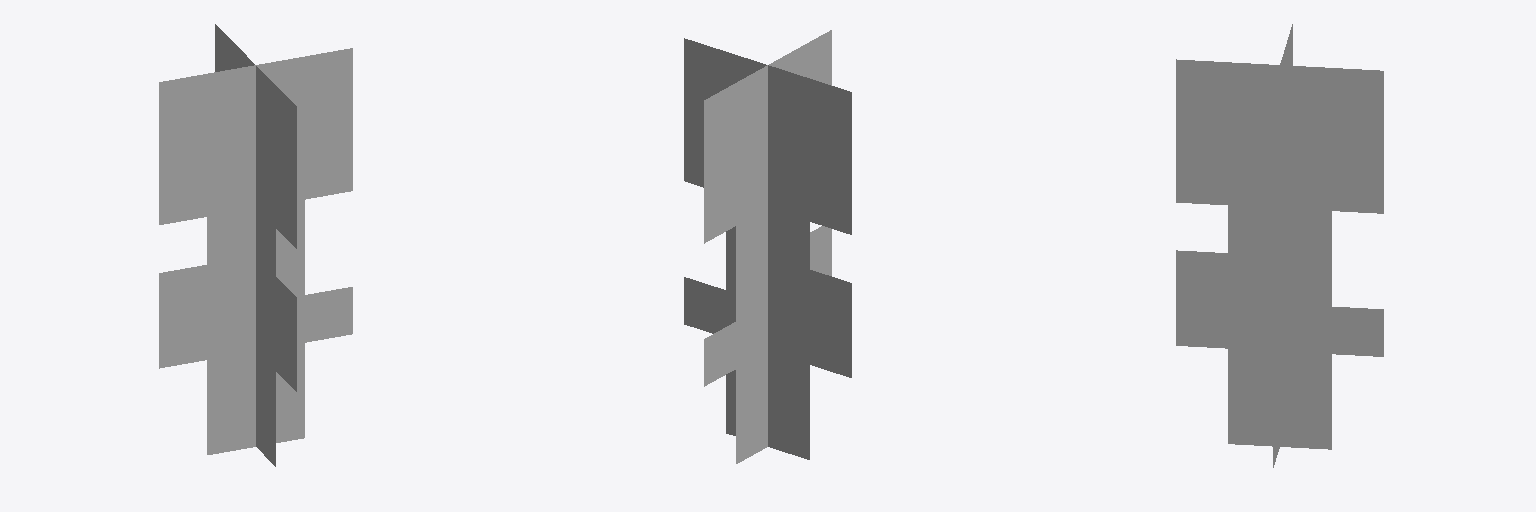
The model's file is flower.obj.
The picture shows the model from 3 angles: view 1: azimuth 30°, elevation 25°; view 2: azimuth 150°, elevation 25°; view 3: azimuth 270°, elevation 25°; orthographic projection.
Visible parts, largest first — view 1: Flower_Flower_MAT_0; view 2: Flower_Flower_MAT_0; view 3: Flower_Flower_MAT_0.
Part boxes in pixels (left/top/right/bottom): Flower_Flower_MAT_0: left=159, top=24, right=352, bottom=466; Flower_Flower_MAT_0: left=684, top=30, right=851, bottom=463; Flower_Flower_MAT_0: left=1176, top=24, right=1383, bottom=467.
Bounding box in the file's own units: 0.0883 × 0.178 × 0.0883.